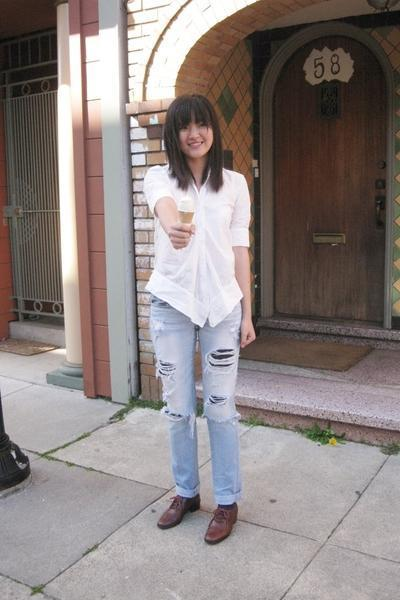pants: (140, 302, 240, 504)
shirt: (140, 164, 250, 323)
shoe: (158, 494, 237, 545)
